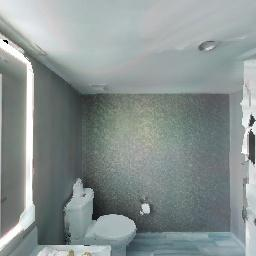toilet: (59, 181, 156, 256)
